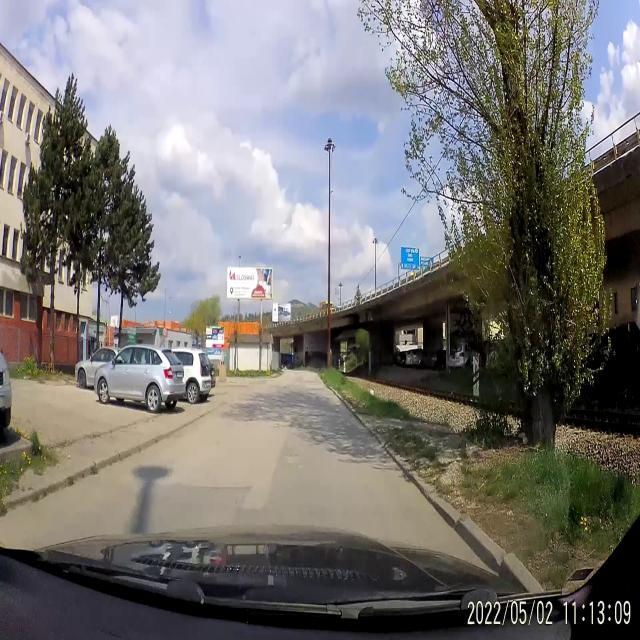Pothole: (280, 451, 303, 481)
